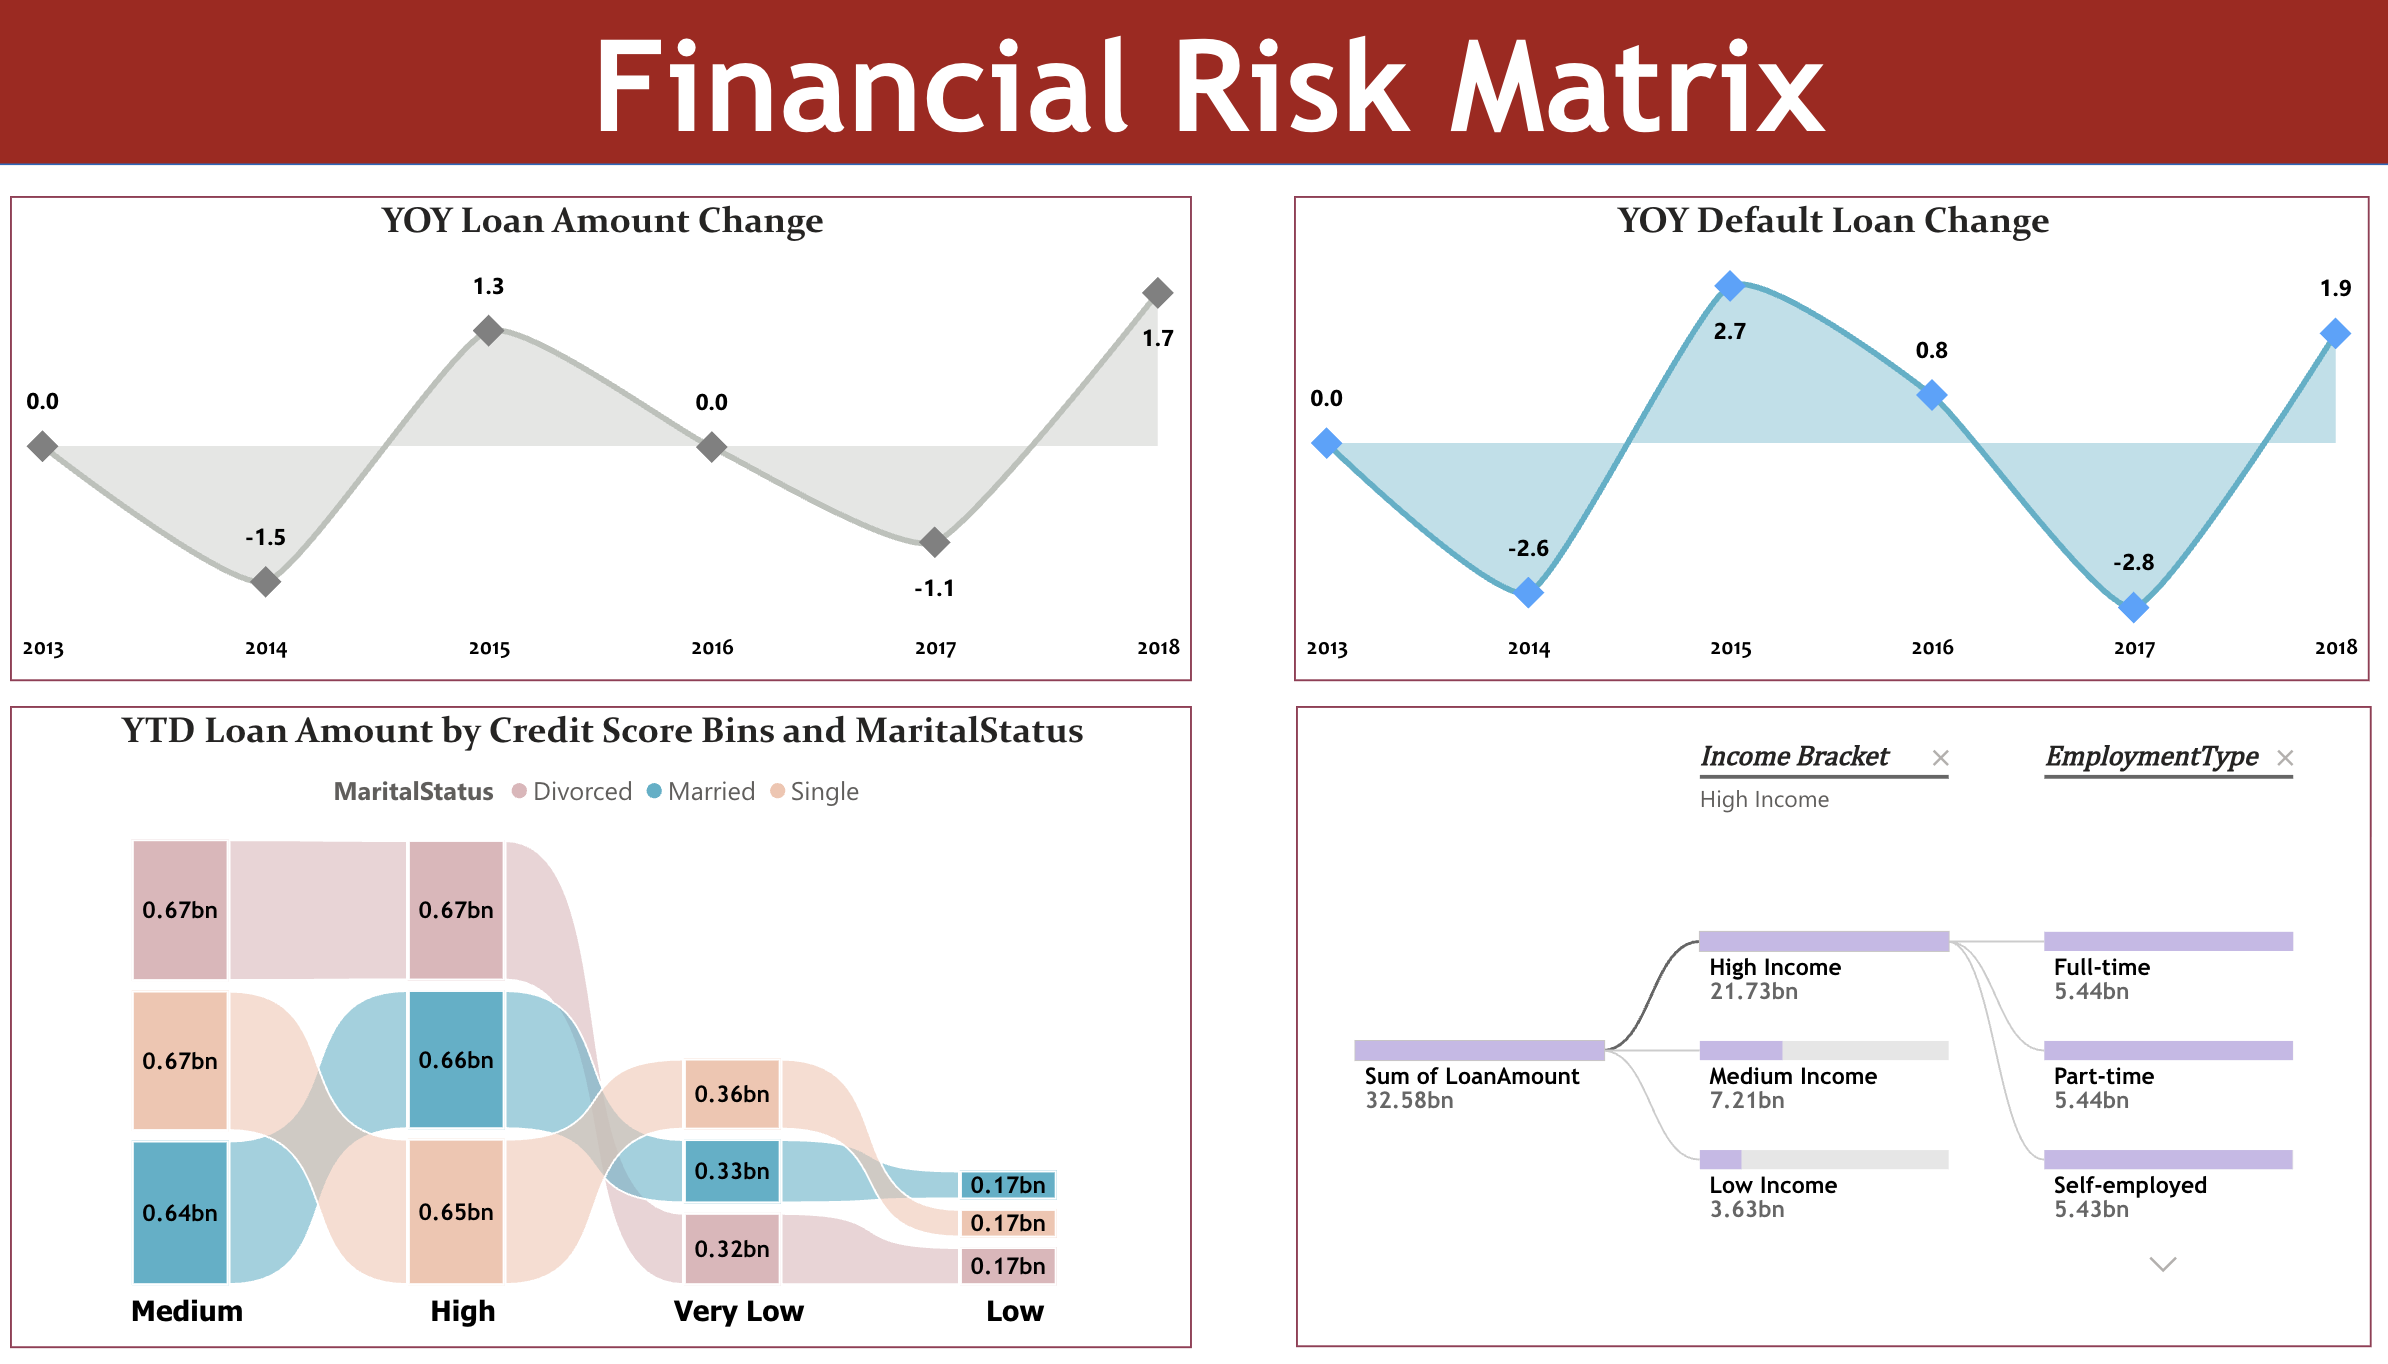

Layout of this report page (visuals, bound fields, positions):
{"tool":"powerbi","page":{"name":"Financial Risk Matrix","canvas":[1280,720],"ordinal":2},"visuals":[{"type":"shape","box":[0,0,1280.3,90.6],"z":0},{"type":"lineChart","title":"YOY Loan Amount Change","fields":{"Y":["Measures Table 3.YOY Loan Amount Change"],"Category":["Loan_default.Year"]},"box":[10.9,106.2,617.7,253.3],"z":1000},{"type":"lineChart","title":"YOY Default Loan Change","fields":{"Y":["Measures Table 3.YOY Default Loan Change"],"Category":["Loan_default.Year"]},"box":[681.6,106.2,562.2,253.3],"z":2000},{"type":"ribbonChart","title":"YTD Loan Amount by Credit Score Bins and MaritalStatus","fields":{"Category":["Loan_default.Credit Score Bins"],"Series":["Loan_default.MaritalStatus"],"Y":["Measures Table 3.YTD Loan Amount"]},"box":[10.9,372.8,617.7,335.4],"z":3000},{"type":"decompositionTreeVisual","fields":{"Analyze":["Sum(Loan_default.LoanAmount)"],"ExplainBy":["Loan_default.Income Bracket","Loan_default.EmploymentType"]},"box":[682,373,562,335],"z":3001}]}

Visuals, with their boxes in screenshot pixels (x1, y1, x2, y2), scaled from the page's 1280x720 canvas onto the 2388x1364 screenshot:
shape: (0,0,2387,172)
"YOY Loan Amount Change" lineChart: (20,201,1173,681)
"YOY Default Loan Change" lineChart: (1272,201,2320,681)
"YTD Loan Amount by Credit Score Bins and MaritalStatus" ribbonChart: (20,706,1173,1342)
decompositionTreeVisual - Sum(Loan_default.LoanAmount) x Loan_default.Income Bracket: (1272,707,2321,1341)
